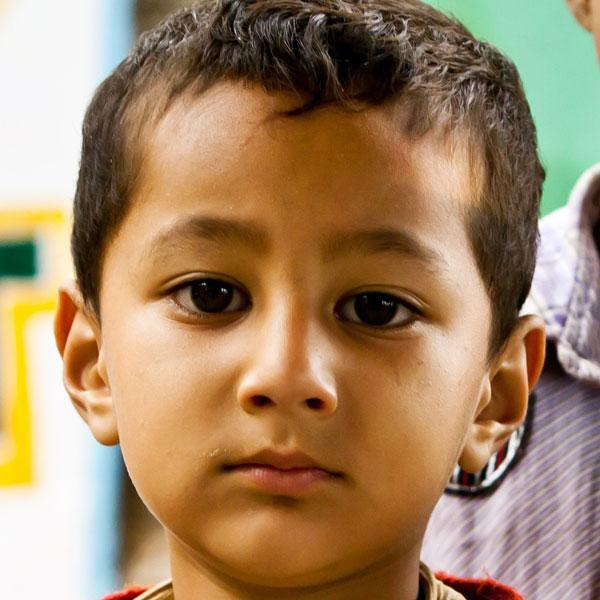Eyes: (324, 266, 435, 348), (149, 259, 259, 334)
